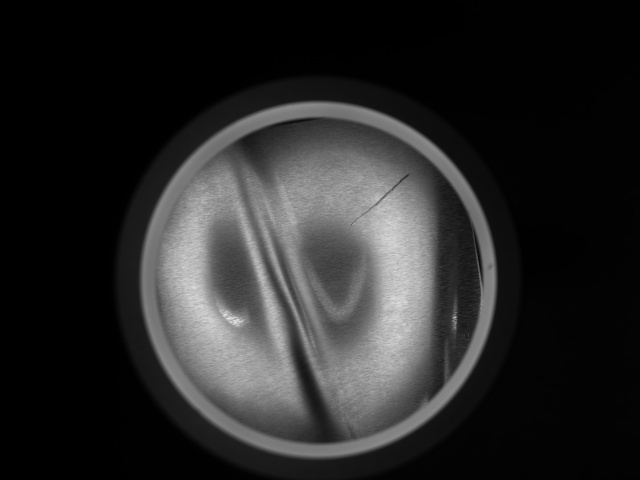ca_shang: (351, 173, 413, 225)
zhe_zhou: (193, 148, 440, 411)
